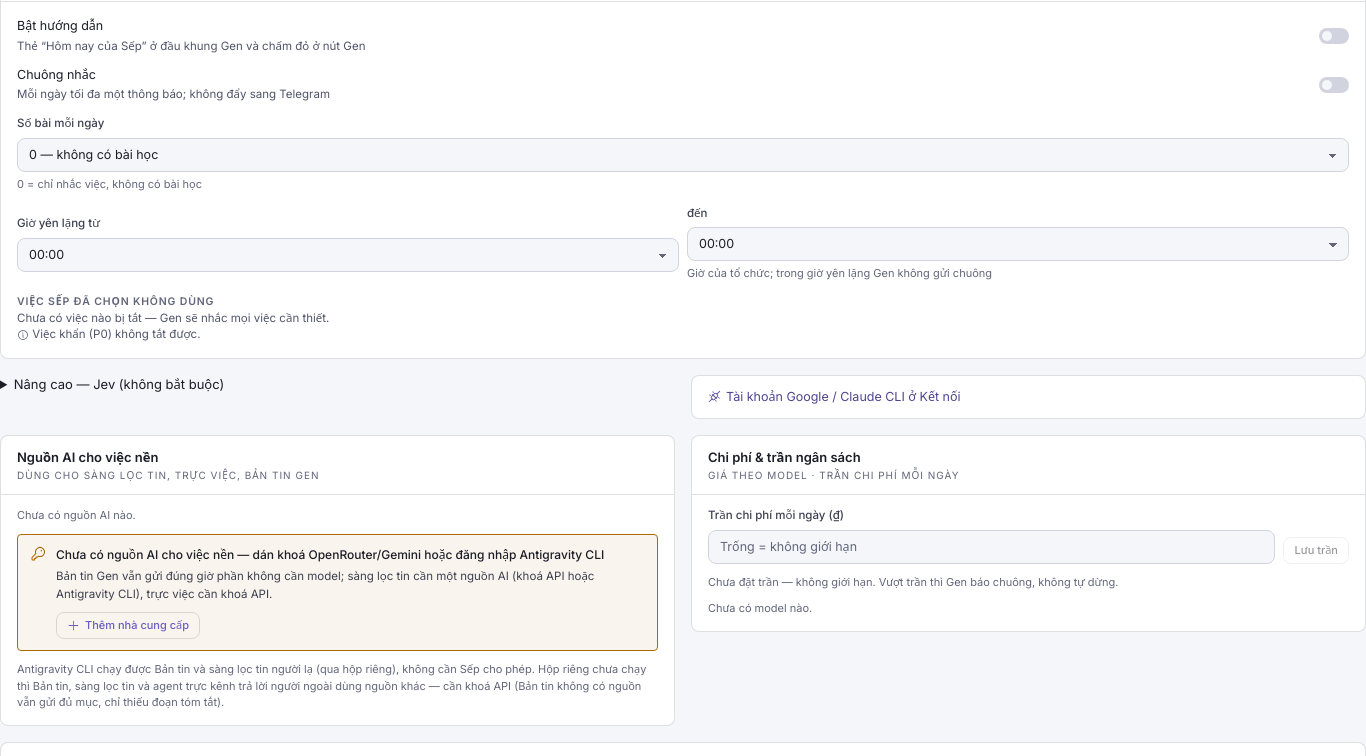
v0.1.39 — Jev "Kiểm tra 1 lần" và thu vào "Nâng cao" khi lỗi › bấm "Kiểm tra 1 lần" ra lỗi: nút biến mất, thẻ tự thu vào "Nâng cao"
The width and height of the screenshot is (1366, 756).
(page scrolled)
Click the heading "Nâng cao — Jev (không bắt buộc)" at (119, 384), box [14,376,224,392]
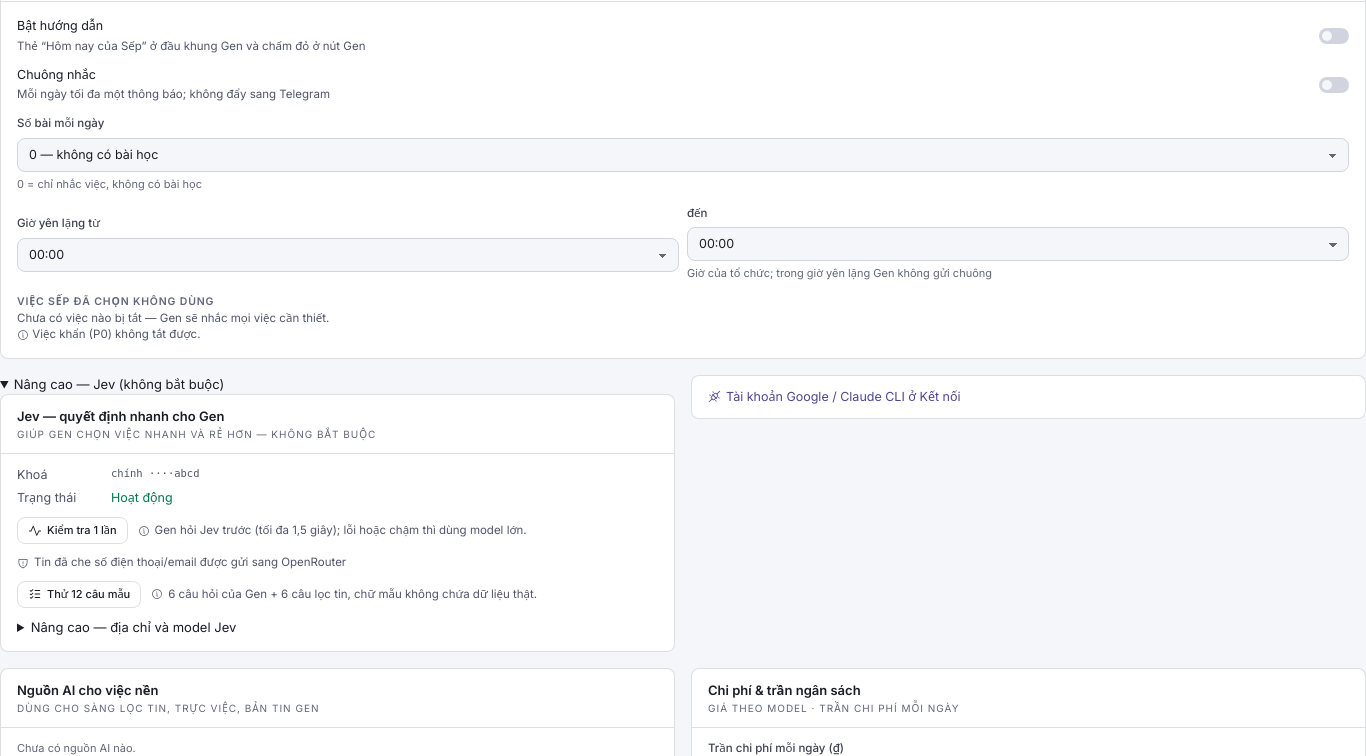
Click the button "Kiểm tra 1 lần" at (72, 531), box [17,517,128,544]
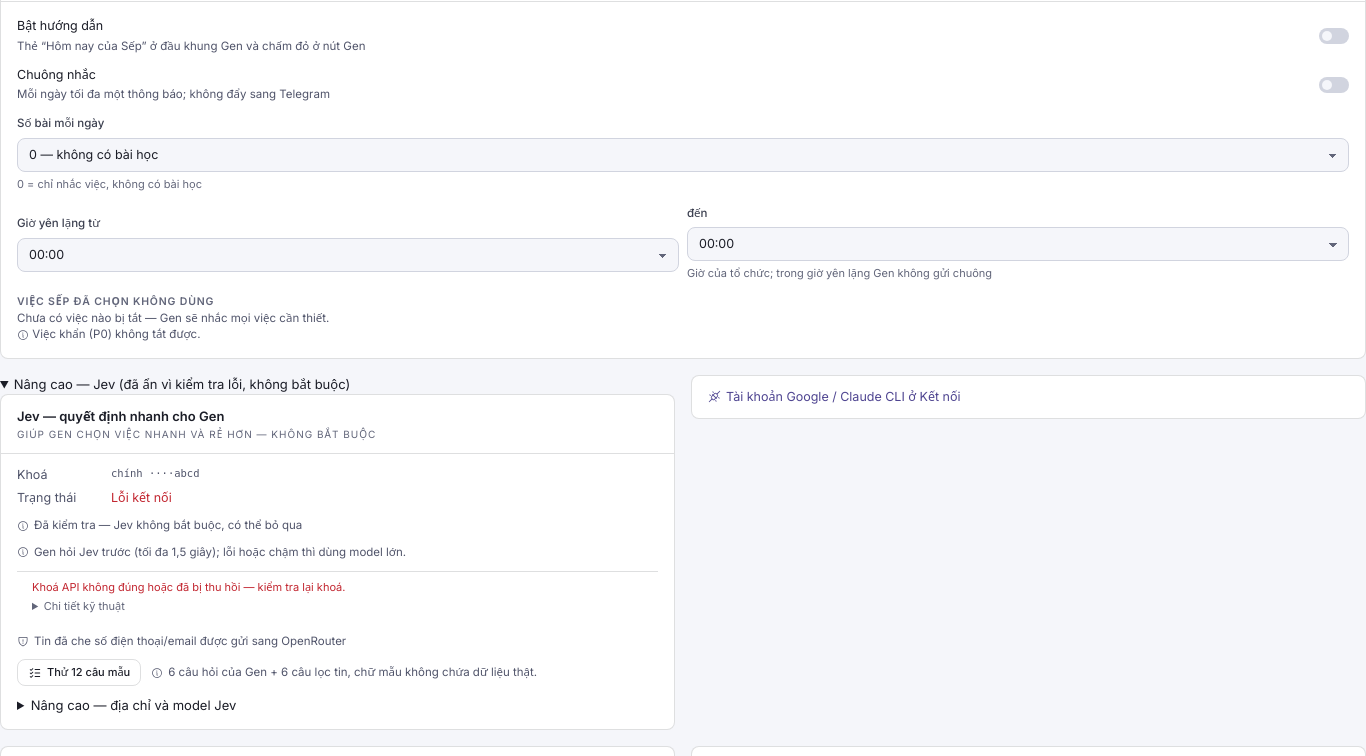
expect the text "Jev — quyết định nhanh cho Gen" is shown: met, box [17,408,224,424]
expect the heading "Nâng cao — Jev (đã ẩn vì kiểm tra lỗi, không bắt buộc)" is shown: met, box [14,376,350,392]
expect the text "Đã kiểm tra — Jev không bắt buộc, có thể bỏ qua" is shown: met, box [17,517,302,534]
